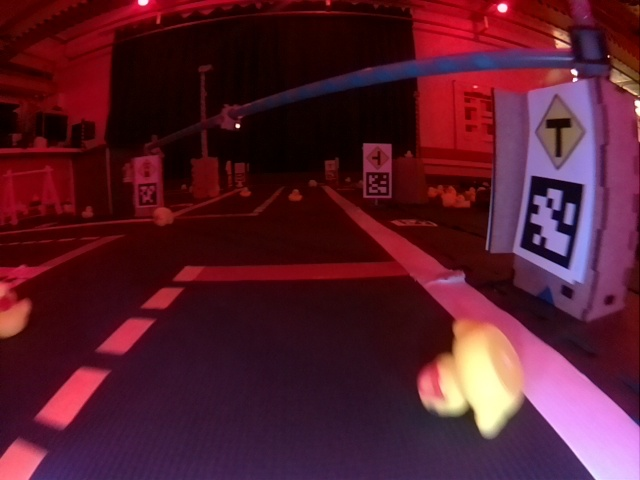Duckie: (418, 319, 521, 438), (0, 282, 33, 338), (154, 210, 174, 226), (288, 189, 302, 202), (240, 187, 250, 197)
Intersection sign: (534, 93, 587, 172), (367, 146, 388, 169)
QR code: (521, 176, 585, 268), (366, 173, 389, 196), (137, 183, 156, 205), (394, 218, 437, 227)
Signal sign: (139, 159, 158, 177)
